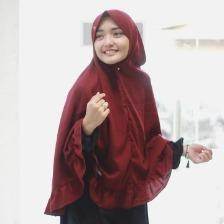HijabSyar-i: (41, 8, 176, 211)
